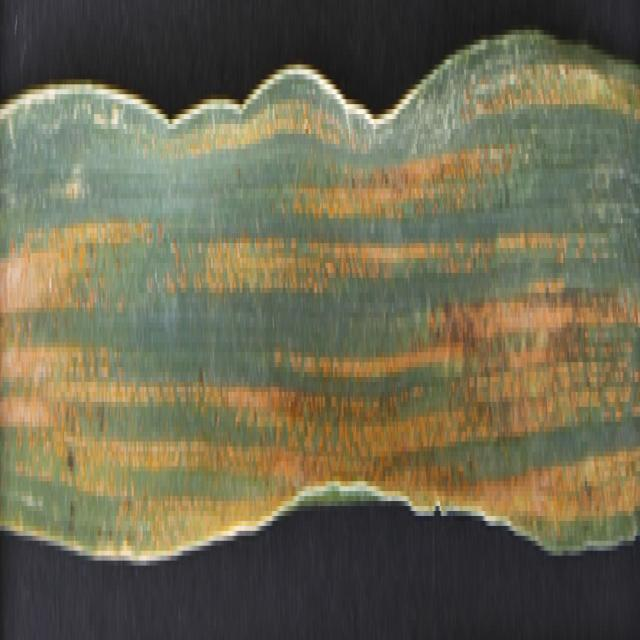leaf rust: (1, 114, 639, 526)
